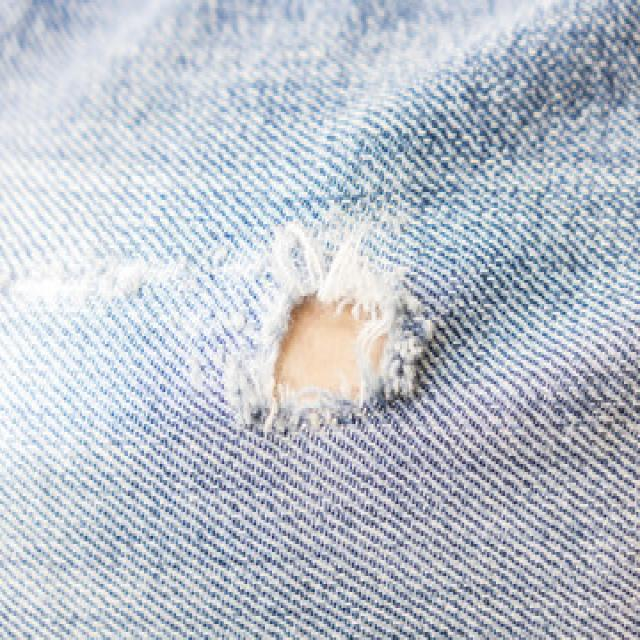Hole: (223, 223, 426, 435)
